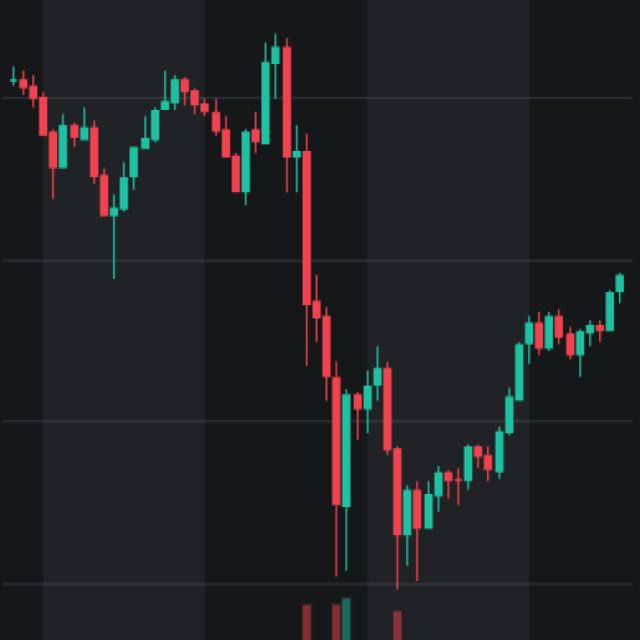Inverse-Head-Shoulders: (289, 242, 628, 560)
